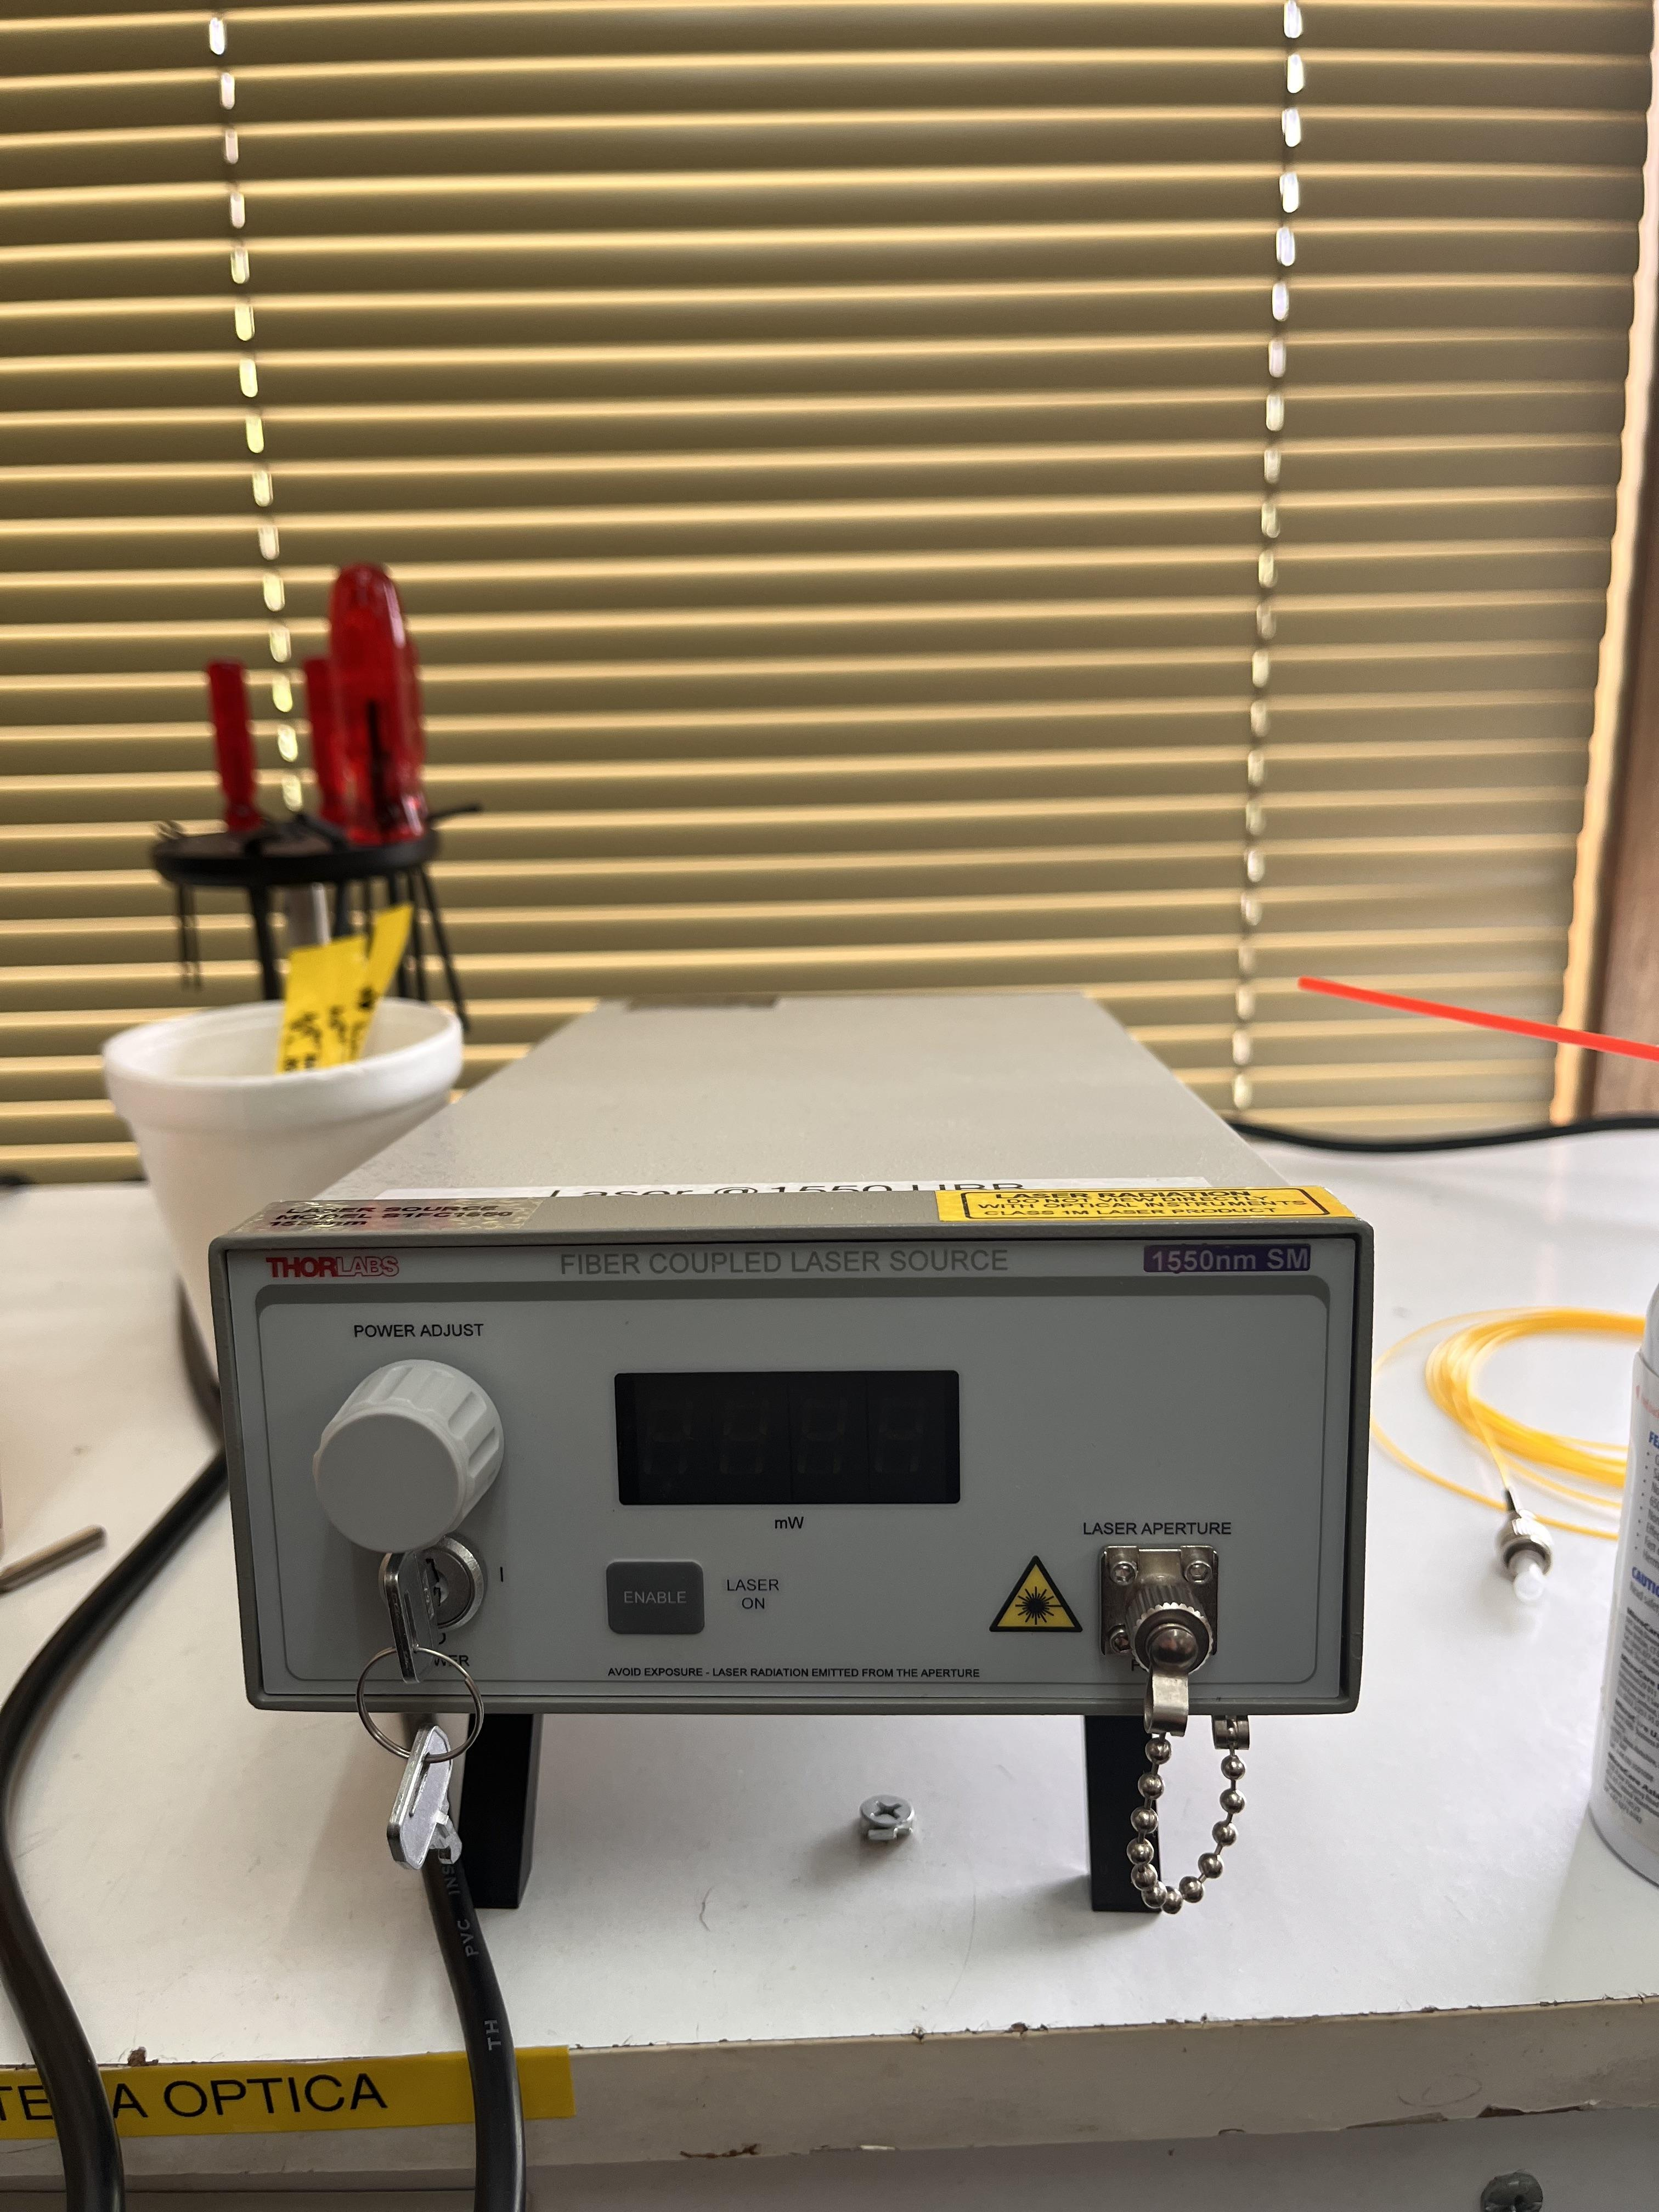laser: (206, 979, 1385, 1745)
